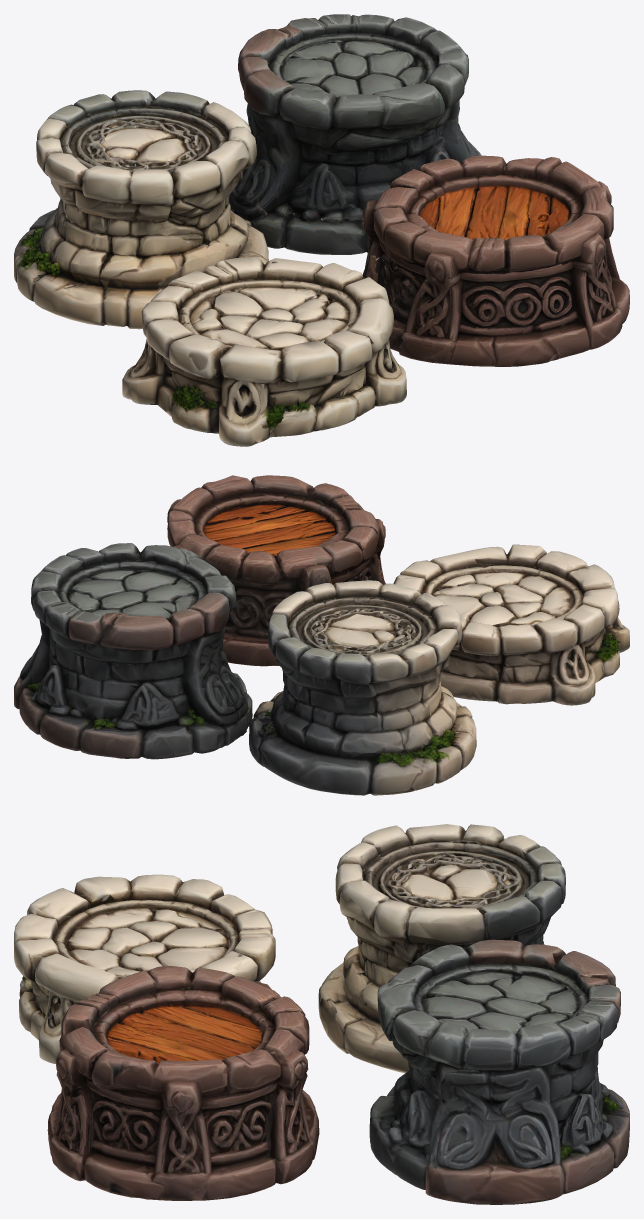
The model's file is Bases_Pedestals_Minis.glb.
3 views of the same model, one above another, from view 1: azimuth 30°, elevation 25°; view 2: azimuth 150°, elevation 25°; view 3: azimuth 270°, elevation 25° (orthographic). The views are drawn at different scales.
Visible parts, largest first — view 1: Bases_Pedestals_Minis; view 2: Bases_Pedestals_Minis; view 3: Bases_Pedestals_Minis.
Boxes of the visible parts, box(x1,y1,x2,y2) form: Bases_Pedestals_Minis: box(14, 14, 629, 446); Bases_Pedestals_Minis: box(14, 475, 629, 795); Bases_Pedestals_Minis: box(14, 824, 629, 1204).
Size of the model in its own units: 1.85 by 0.5316 by 1.9.
1 material, 1 textured.
